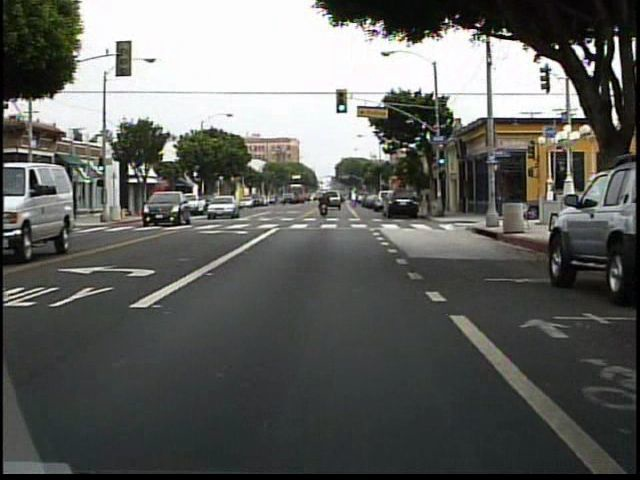person: (59, 192, 82, 221), (318, 190, 331, 219), (70, 191, 82, 222)
